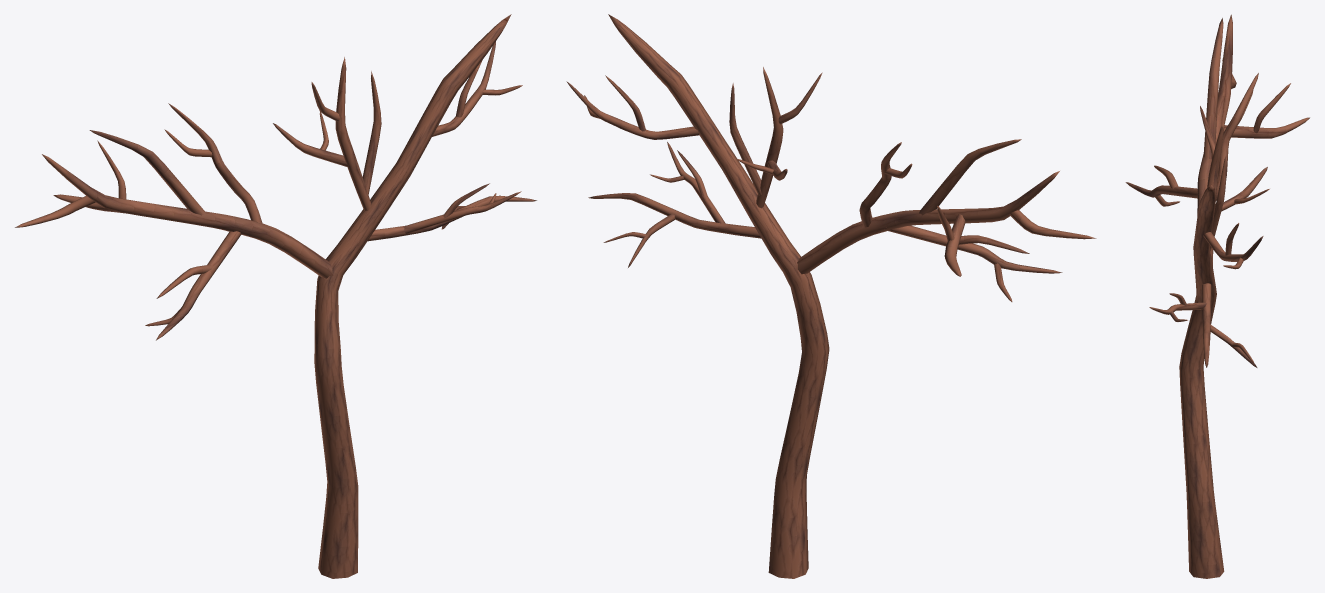
Rendered from DeadTree_4.gltf.
3 views of the same model, side by side, from view 1: azimuth 30°, elevation 25°; view 2: azimuth 150°, elevation 25°; view 3: azimuth 270°, elevation 25° (orthographic). The views are drawn at different scales.
Visible parts, largest first — view 1: DeadTree_4; view 2: DeadTree_4; view 3: DeadTree_4.
Part boxes in pixels (box(x1,y1,x2,y2)): DeadTree_4: box(15, 14, 536, 578); DeadTree_4: box(566, 14, 1096, 578); DeadTree_4: box(1125, 14, 1309, 578).
Size of the model in its own units: 4.85 by 4.61 by 1.67.
Materials: 1 (1 with a texture image).
